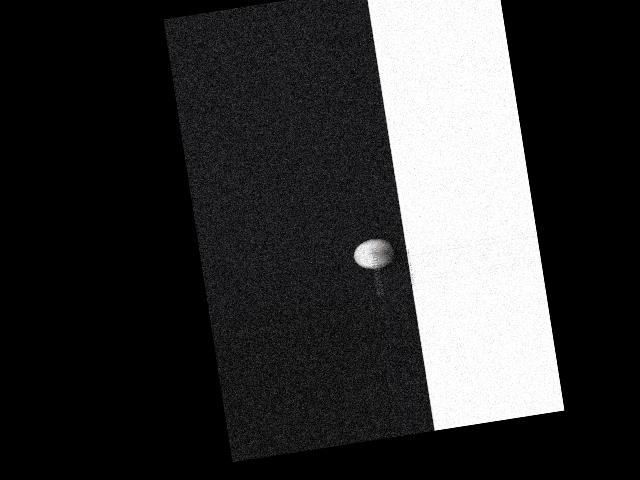egg: (351, 235, 396, 271)
